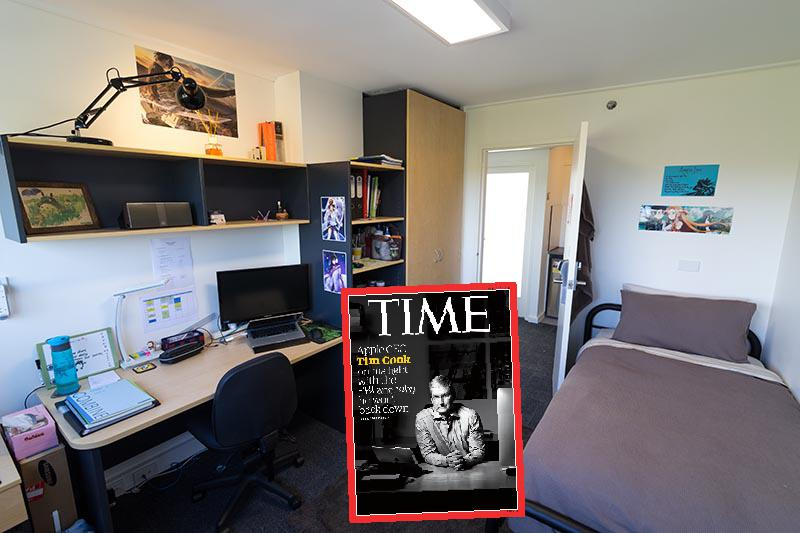times: (335, 280, 528, 523)
